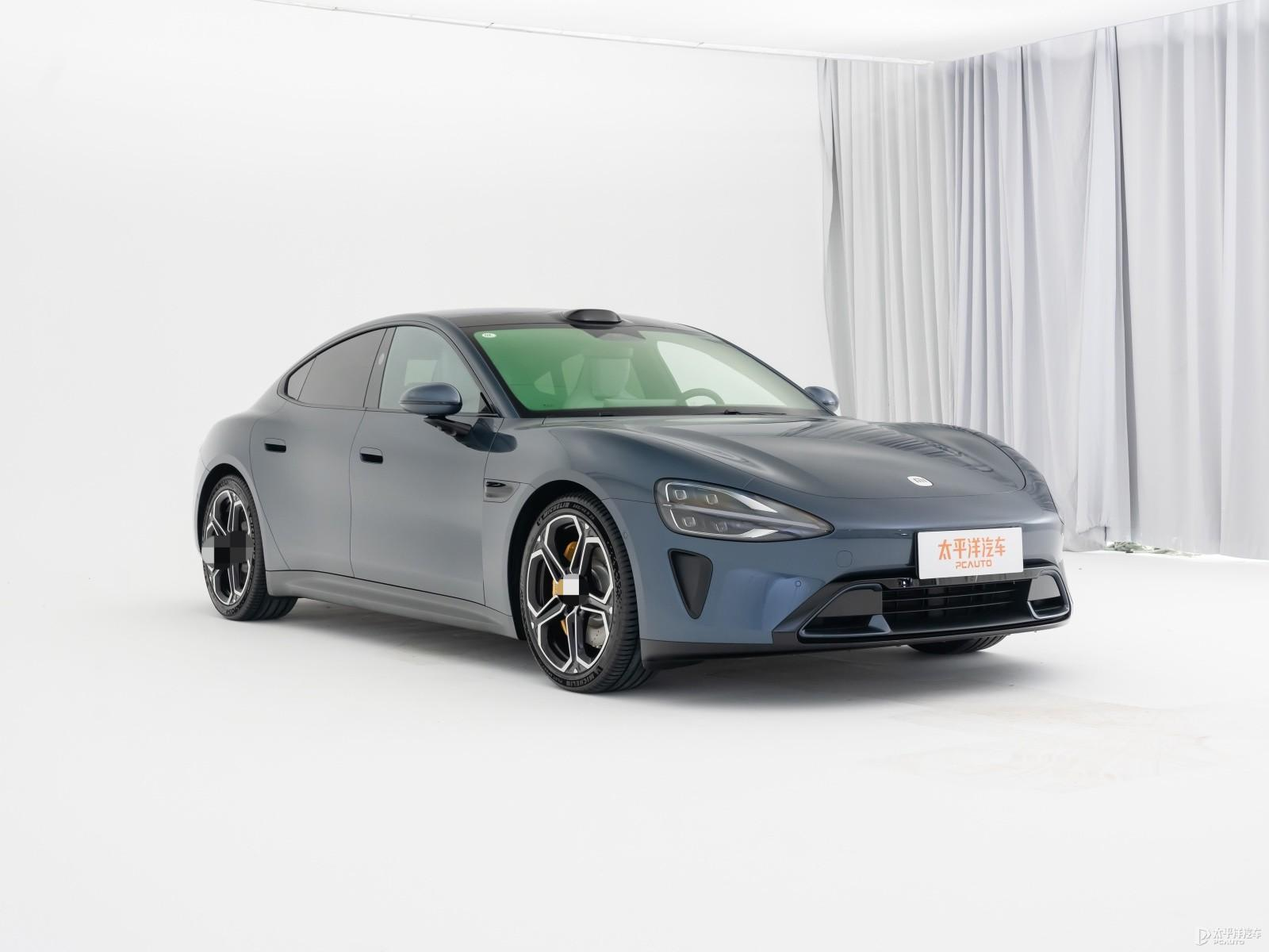XIAOMI: (907, 474, 934, 488)
